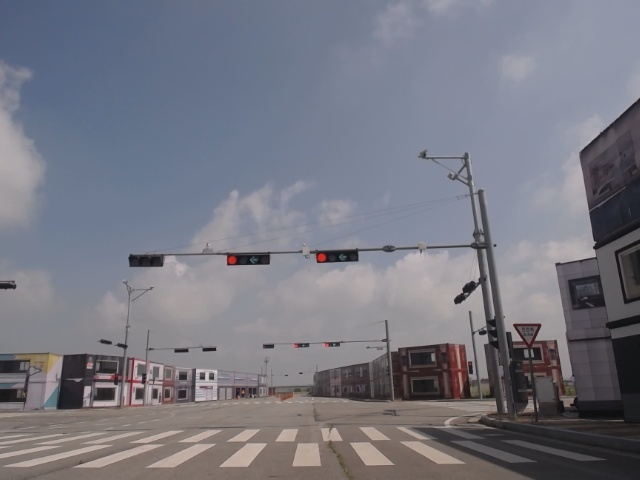left_green_4: (226, 254, 271, 266), (316, 251, 359, 263)
